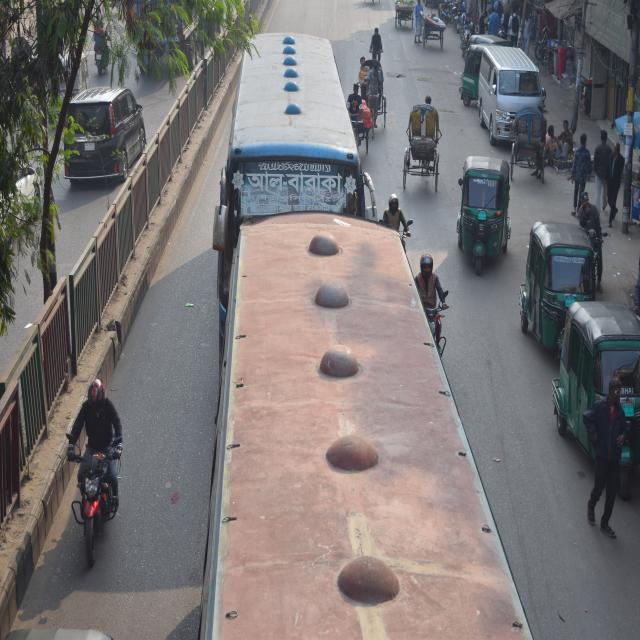bus: (216, 241, 509, 640), (234, 31, 358, 238)
microbus: (477, 38, 542, 158)
motorbike: (47, 433, 131, 580), (68, 74, 150, 200)
